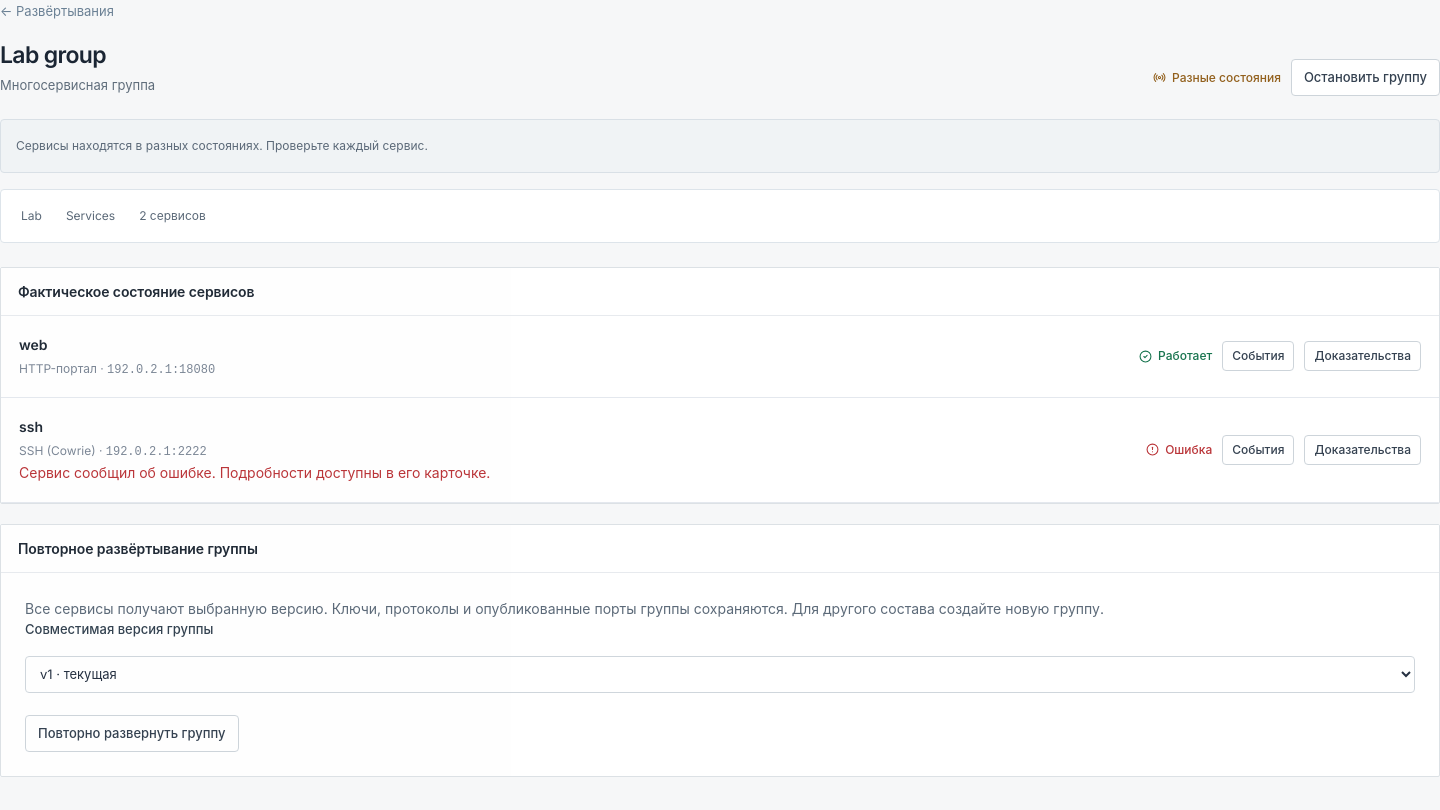
bundle editor and real-contract group interactions › shows mixed/error child states without announcing running and asks confirmation before stop
Check: the heading "Lab group" is shown, box [0,40,106,68]
Check: the text "Разные состояния" is shown, box [1153,69,1281,87]
Click the button "Остановить группу" at (1365, 78), box [1291,59,1439,96]
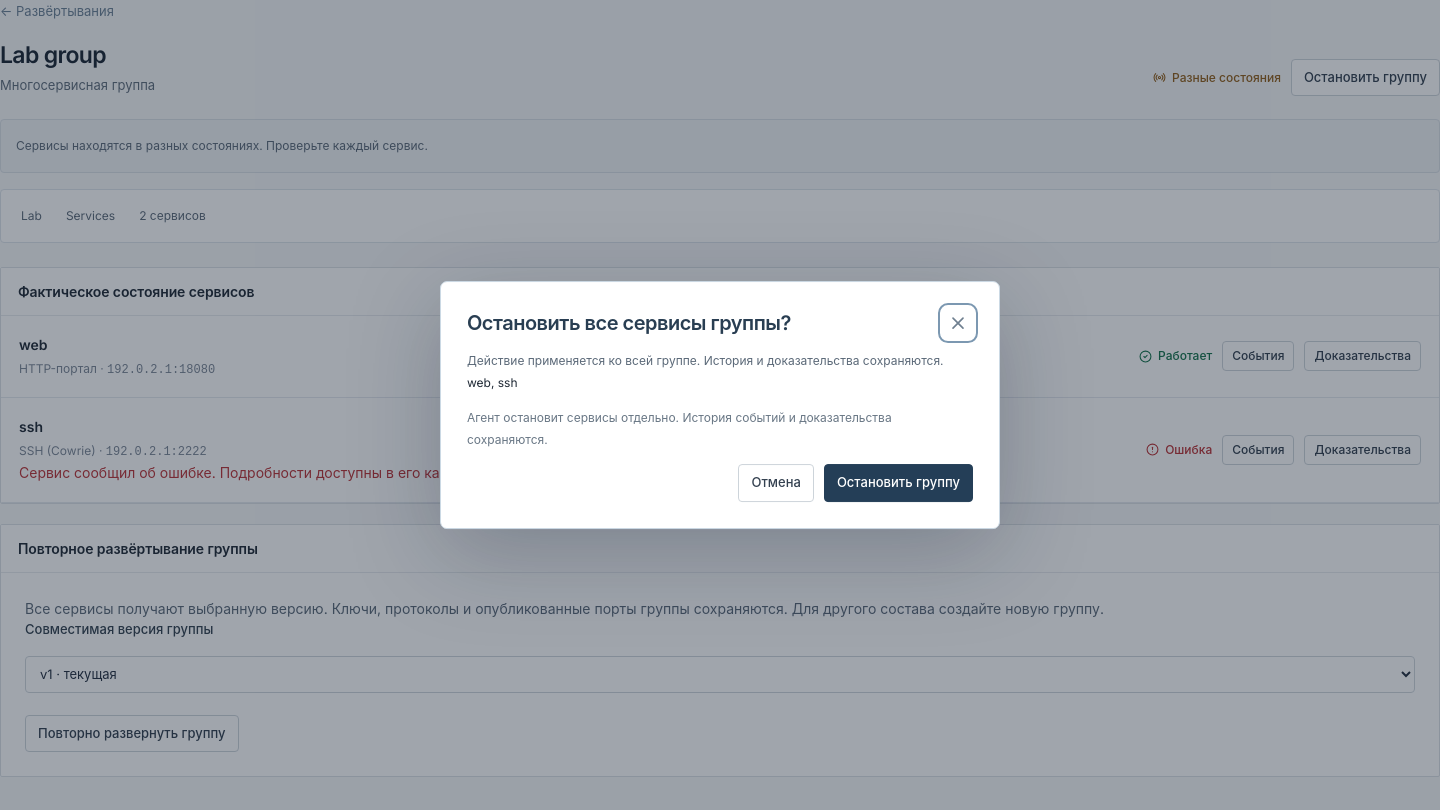
Click the button "Остановить группу" at (898, 483), box [824,464,973,502]
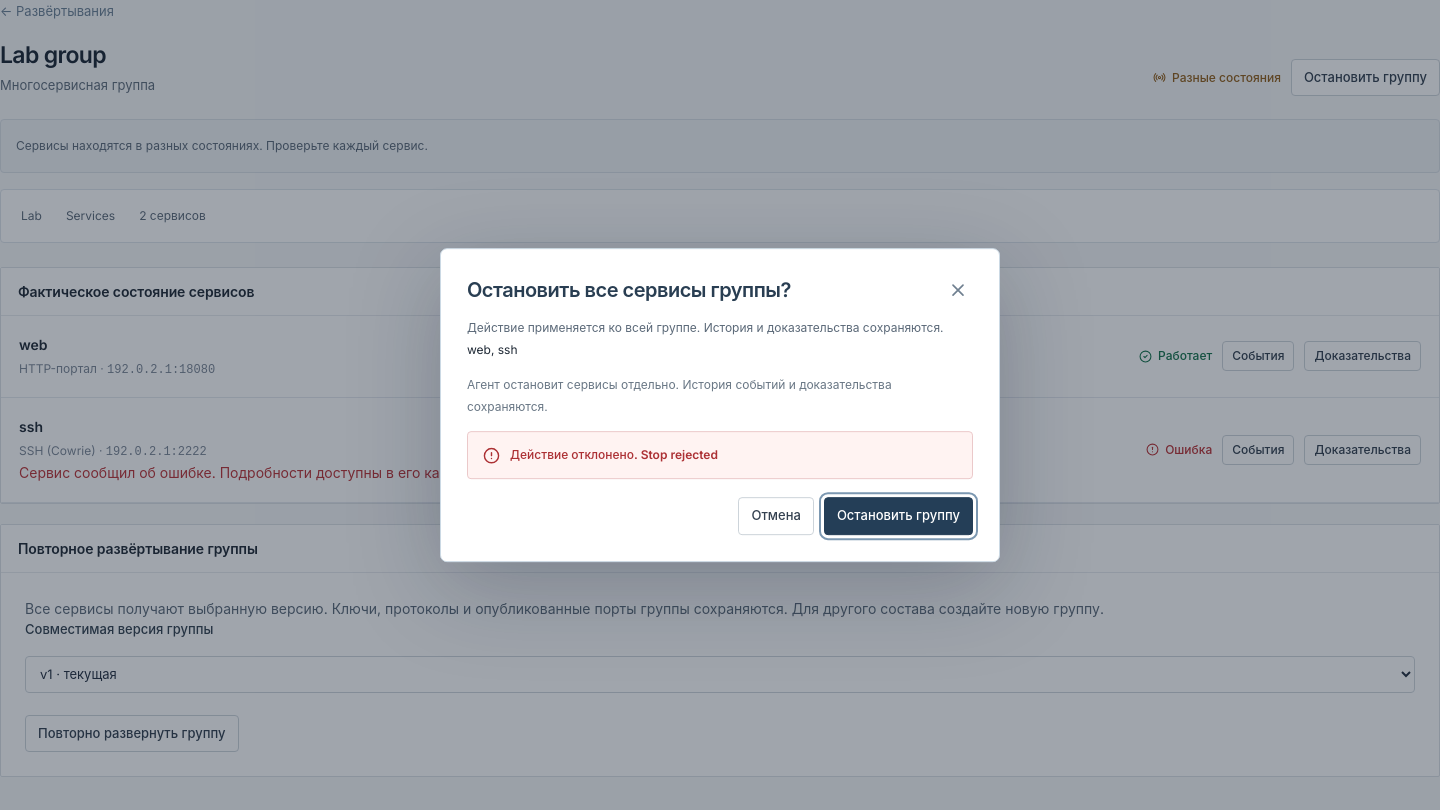
Check: the dialog is shown, box [440,248,1000,562]
Check: the text "Действие отклонено. Stop rejected" is shown, box [510,448,718,462]
